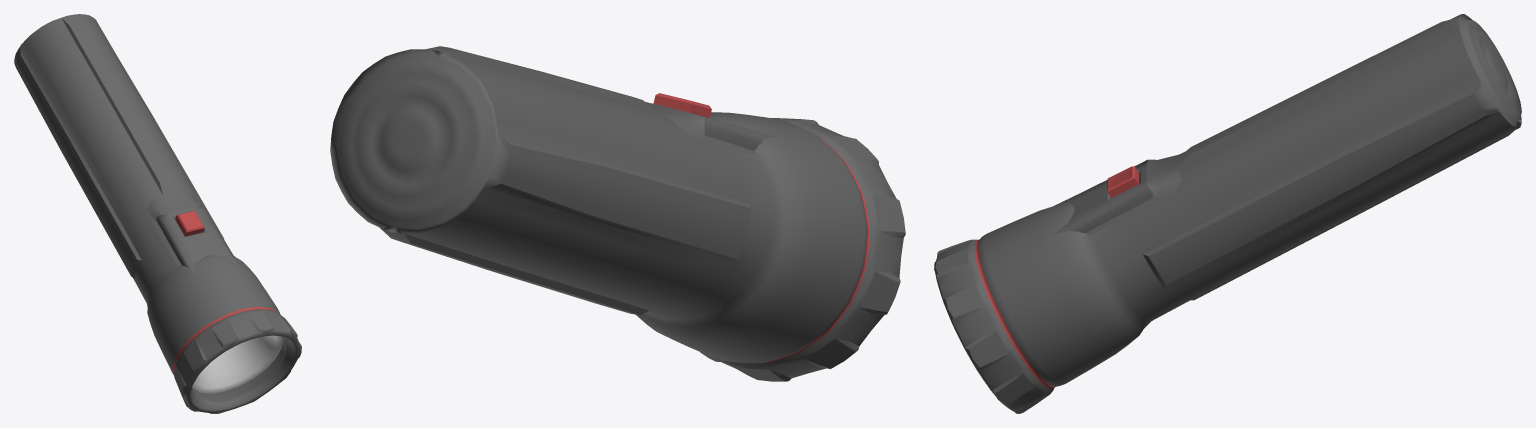
The model's file is Latarka.fbx.
The picture shows the model from 3 angles, left to right: view 1: azimuth 30°, elevation 25°; view 2: azimuth 150°, elevation 25°; view 3: azimuth 270°, elevation 25°; orthographic projection. The views are drawn at different scales.
Visible parts, largest first — view 1: polySurface7, polySurface11, polySurface10; view 2: polySurface7; view 3: polySurface7.
Boxes of the visible parts, x1,y1,x2,y2 form: polySurface7: (14,14,301,413); polySurface11: (194,336,285,404); polySurface10: (192,335,282,393); polySurface7: (330,46,905,381); polySurface7: (934,14,1521,413).
Size of the model in its own units: 7.86 by 18.27 by 25.36.
